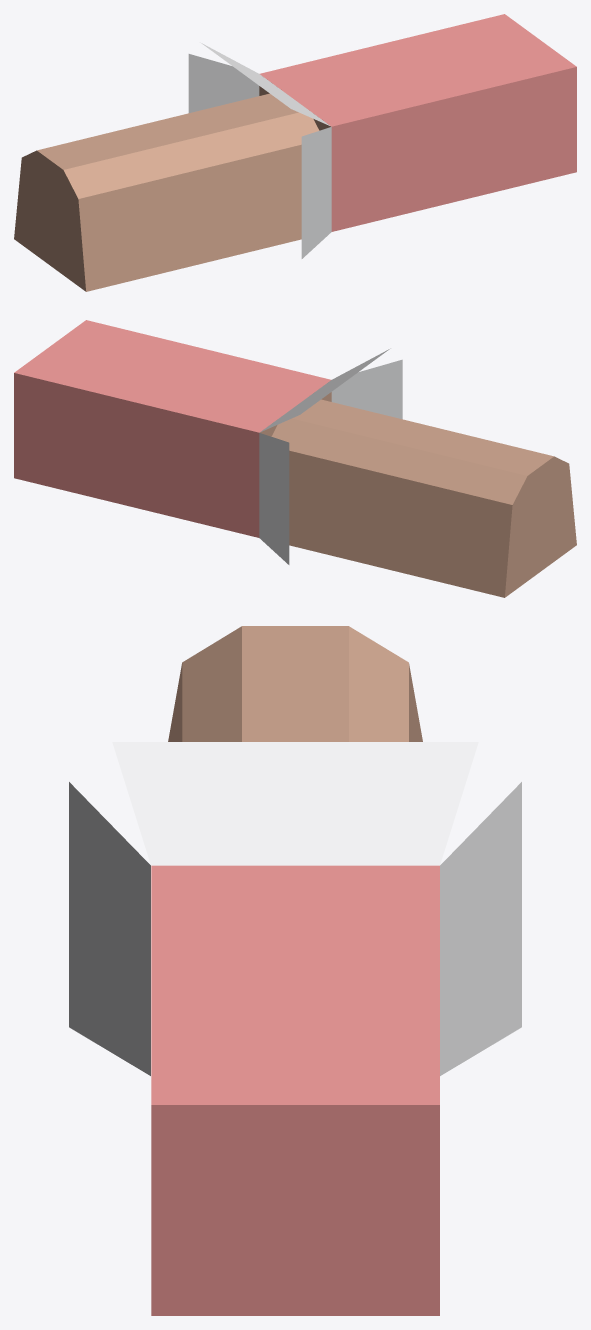
The picture shows the model from 3 angles, top to bottom: view 1: azimuth 30°, elevation 25°; view 2: azimuth 150°, elevation 25°; view 3: azimuth 270°, elevation 25°; orthographic projection. The views are drawn at different scales.
Visible parts, largest first — view 1: candyBarWrapper; view 2: candyBarWrapper; view 3: candyBarWrapper.
Part boxes in pixels (x1,y1,x2,y2): candyBarWrapper: [14, 14, 576, 291]; candyBarWrapper: [14, 320, 576, 597]; candyBarWrapper: [69, 626, 521, 1315].
Size of the model in its own units: 0.2924 by 0.0812 by 0.1169.
